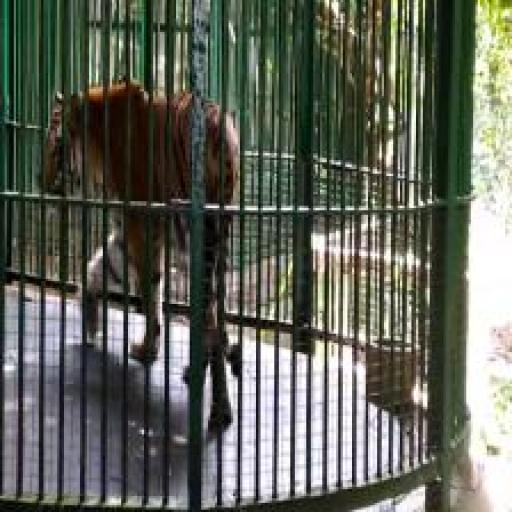Tiger: (32, 41, 255, 425)
